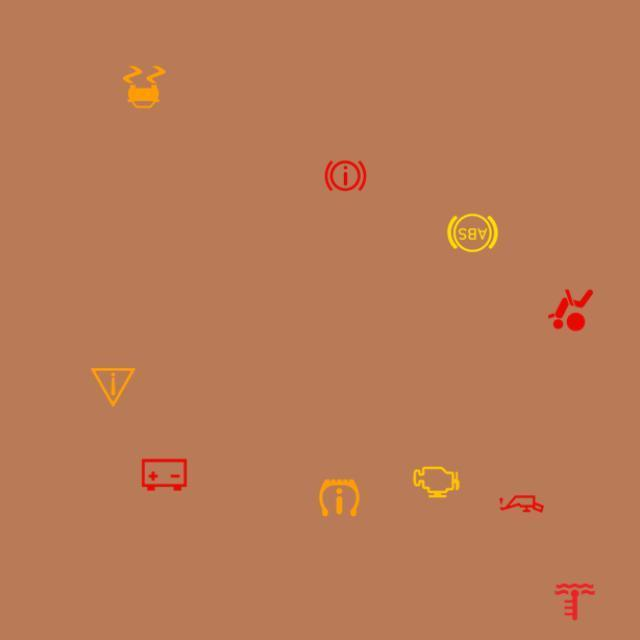High Engine Coolant Temperature: (548, 574, 602, 630)
